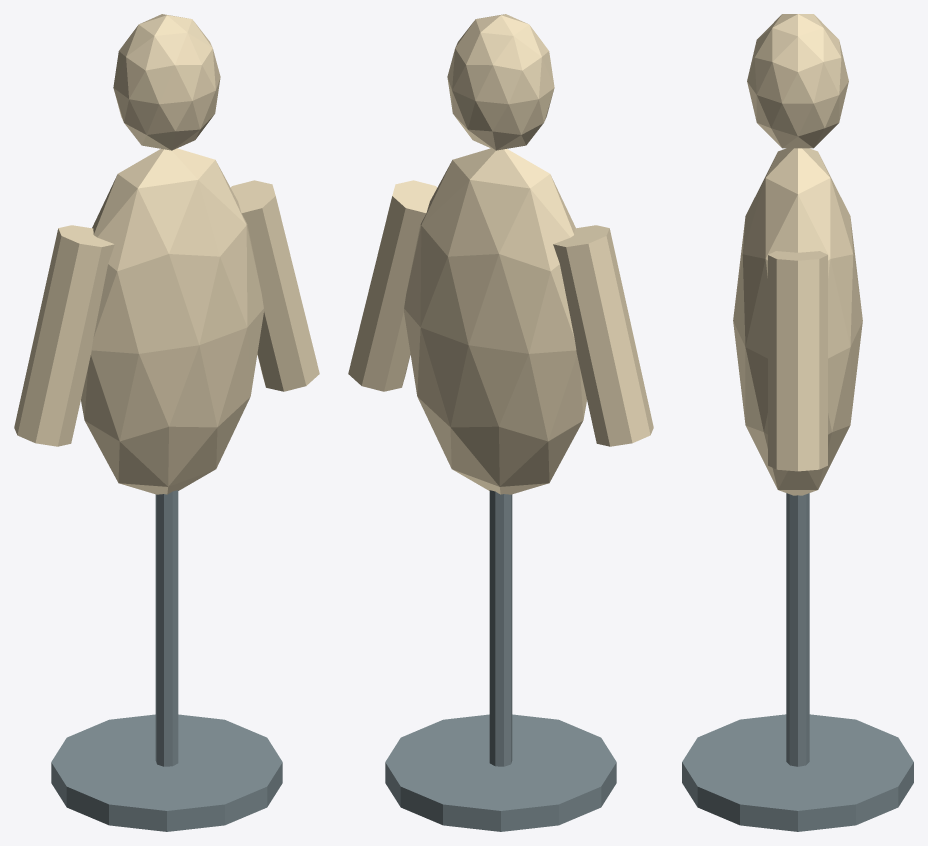
The model's file is Prop_Mannequin.fbx.
The picture shows the model from 3 angles, left to right: view 1: azimuth 30°, elevation 25°; view 2: azimuth 150°, elevation 25°; view 3: azimuth 270°, elevation 25°; orthographic projection.
Parts seen in each view (by area): view 1: Torso, Base.001, Arm.001, Head, Arm.002, Stand; view 2: Torso, Base.001, Arm.001, Head, Arm.002, Stand; view 3: Torso, Base.001, Arm.002, Head, Stand.
Part boxes in pixels (x1,y1,x2,y2): Torso: (81,148,263,494); Base.001: (51,714,282,831); Arm.001: (14,225,114,446); Head: (113,14,220,150); Arm.002: (230,180,319,391); Stand: (155,490,178,766); Torso: (404,148,586,494); Base.001: (385,714,616,831); Arm.001: (553,225,653,446); Head: (447,14,554,150); Arm.002: (348,180,437,391); Stand: (489,490,512,766); Torso: (733,148,862,495); Base.001: (682,714,913,831); Arm.002: (768,251,827,471); Head: (747,14,848,148); Stand: (786,493,809,766).
Size of the model in its own units: 0.7463 by 1.83 by 0.5.
